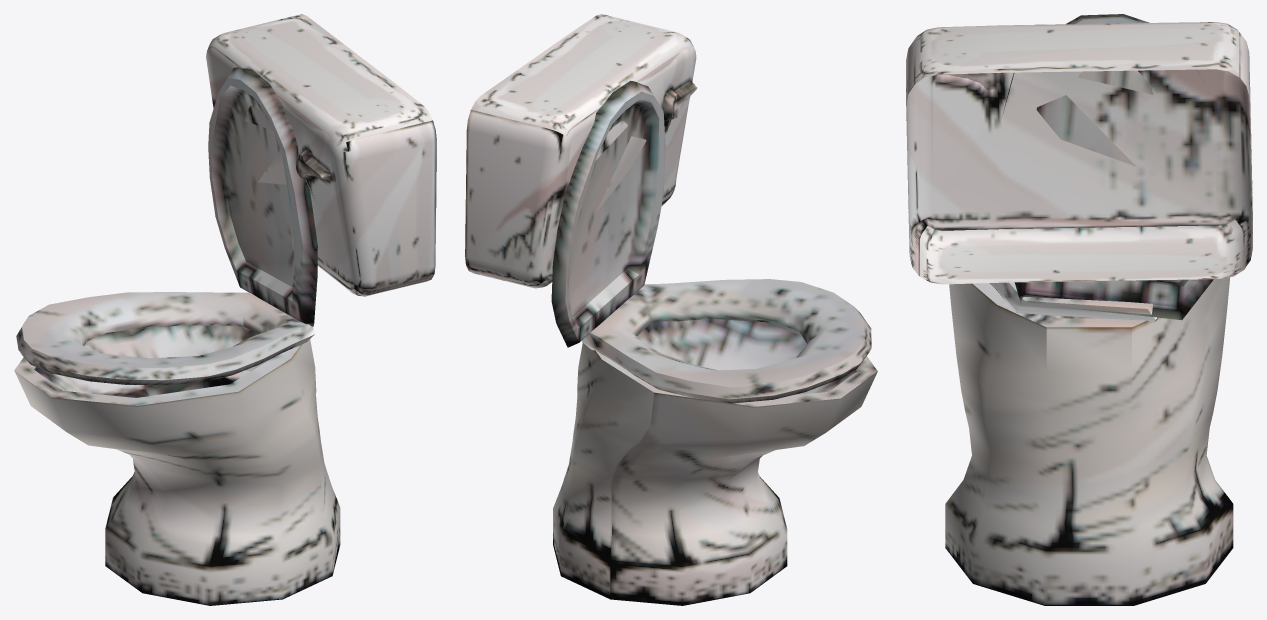
Rendered from Toilet.fbx.
3 renders of one model, left to right at view 1: azimuth 30°, elevation 25°; view 2: azimuth 150°, elevation 25°; view 3: azimuth 270°, elevation 25°, orthographic. The views are drawn at different scales.
Parts seen in each view (by area): view 1: Toilet; view 2: Toilet; view 3: Toilet.
Boxes of the visible parts, x1,y1,x2,y2 form: Toilet: (14,14,436,605); Toilet: (465,14,877,605); Toilet: (906,14,1252,605).
Size of the model in its own units: 80.36 by 108 by 60.85.
